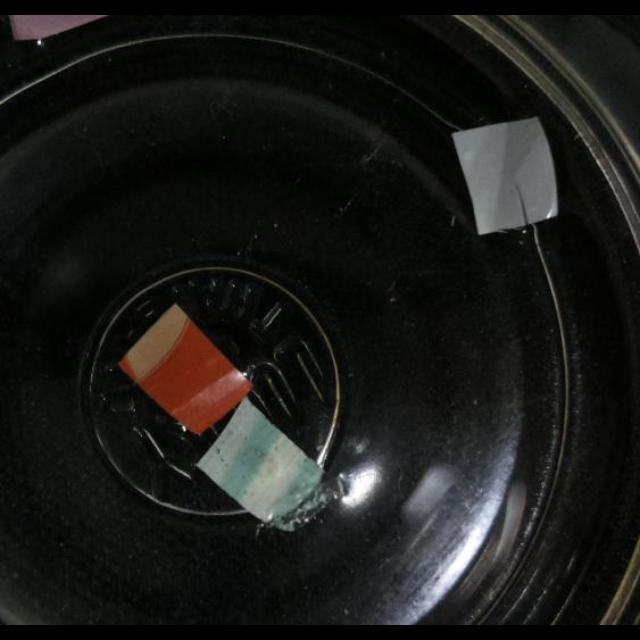Fragment: (196, 396, 326, 530), (120, 305, 248, 435), (451, 115, 562, 237), (7, 15, 122, 42)
